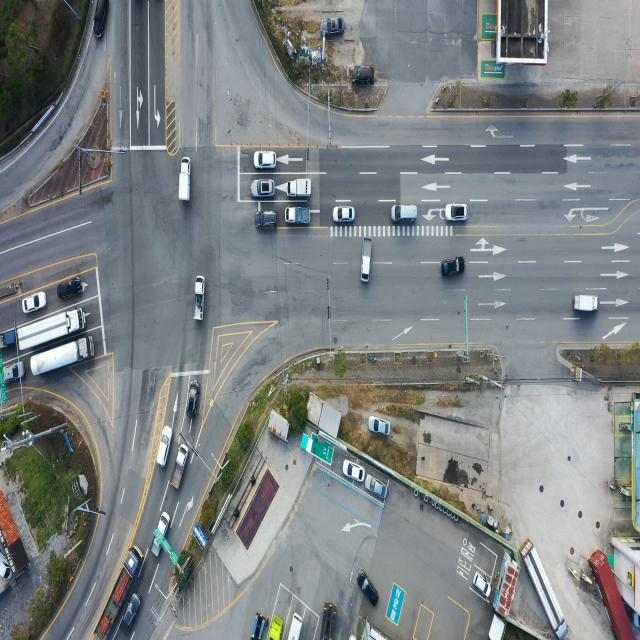car: (355, 569, 378, 604), (158, 425, 174, 468), (124, 592, 142, 629), (58, 277, 85, 300), (94, 0, 110, 38), (366, 476, 388, 502), (23, 291, 48, 312), (392, 204, 418, 224), (472, 572, 491, 599), (2, 361, 25, 383), (344, 460, 365, 483), (320, 18, 345, 37), (186, 379, 198, 418), (368, 416, 390, 437), (352, 65, 375, 85), (251, 179, 275, 198), (442, 259, 466, 278), (255, 210, 278, 229), (446, 204, 468, 223), (254, 150, 276, 169), (330, 202, 353, 220), (334, 206, 356, 224)
medium_truck: (524, 539, 570, 637), (98, 541, 143, 638), (29, 334, 96, 380), (15, 310, 84, 354), (319, 602, 336, 640)
small_bus: (282, 613, 302, 640)
small_truck: (152, 509, 172, 557), (174, 441, 192, 489), (178, 157, 191, 203), (360, 238, 372, 284), (286, 205, 312, 226), (287, 178, 313, 198), (196, 274, 207, 320), (574, 294, 599, 312), (267, 614, 284, 640), (250, 613, 264, 640), (0, 330, 17, 352)
